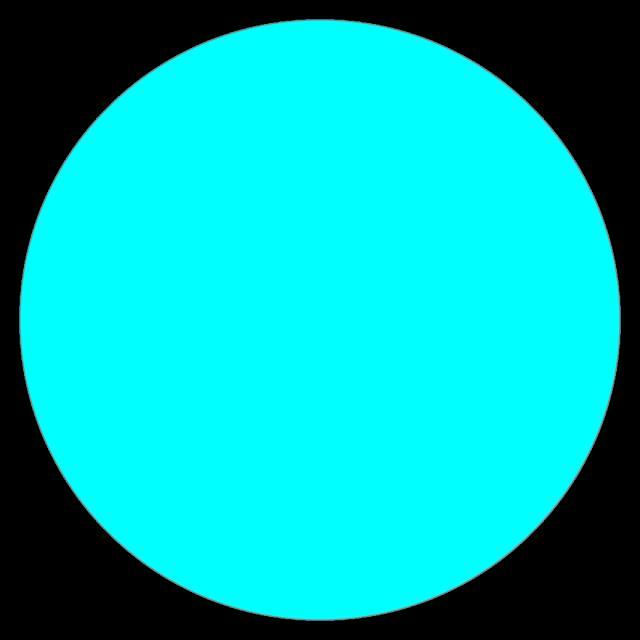Circle: (21, 18, 624, 620)
